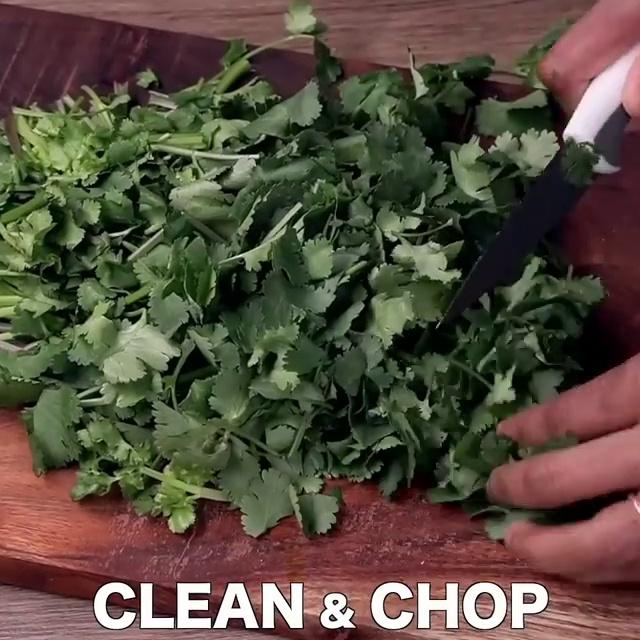cilantro: (0, 73, 478, 458)
